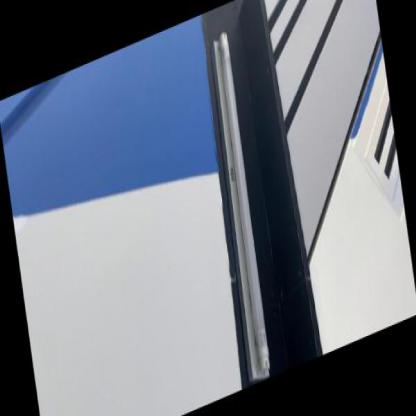light_off: (192, 17, 288, 388)
